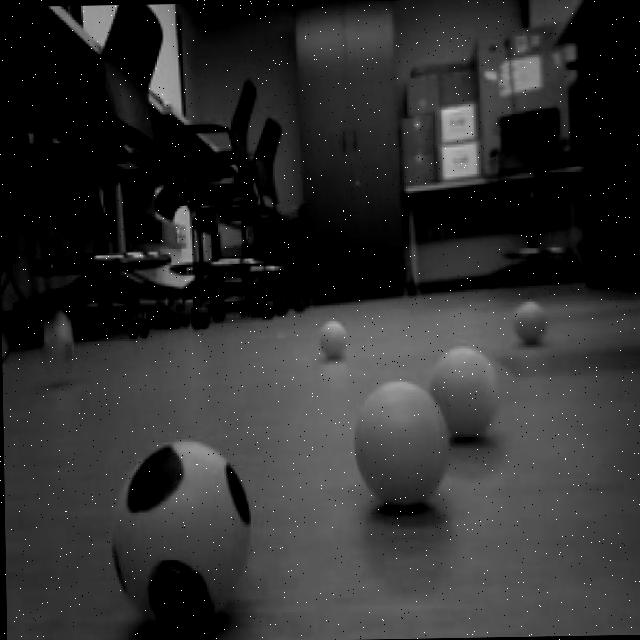ping-pong-ball: (102, 429, 256, 640), (352, 377, 454, 513), (424, 342, 508, 446), (35, 304, 82, 371), (312, 308, 356, 369), (509, 294, 552, 350)
